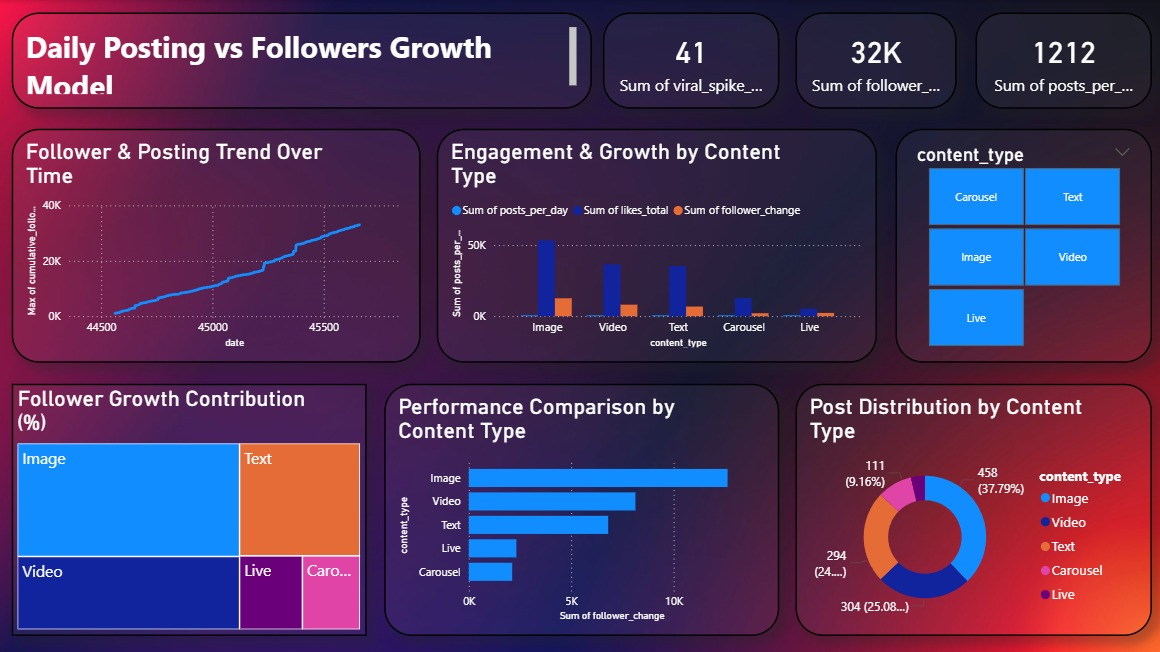

This screenshot's page, from the dashboard's own definition file:
{"tool":"powerbi","page":{"name":"Page 1","canvas":[1280,720],"ordinal":0},"visuals":[{"type":"card","fields":{"Values":["Sum(Sheet1.posts_per_day)"]},"box":[1073.1,13.7,193.5,105.7],"z":0},{"type":"card","fields":{"Values":["Sum(Sheet1.follower_change)"]},"box":[875.5,13.7,177,105.7],"z":1000},{"type":"card","fields":{"Values":["Sum(Sheet1.viral_spike_flag)"]},"box":[664.2,13.7,193.5,105.7],"z":2000},{"type":"textbox","box":[15.1,13.7,636.7,105.7],"z":3000},{"type":"lineChart","title":"Follower & Posting Trend Over Time","fields":{"Y":["Max(Sheet1.cumulative_followers)"],"Category":["Sheet1.date"]},"box":[15.1,141.3,448.7,256.6],"z":4000},{"type":"clusteredBarChart","title":"Performance Comparison by Content Type","fields":{"Y":["Sum(Sheet1.follower_change)"],"Category":["Sheet1.content_type"]},"box":[424,421.3,433.6,277.2],"z":5000},{"type":"donutChart","title":"Post Distribution by Content Type","fields":{"Category":["Sheet1.content_type"],"Y":["Sum(Sheet1.posts_per_day)"]},"box":[875.5,421.3,391.1,277.2],"z":6000},{"type":"treemap","title":"Follower Growth Contribution (%)","fields":{"Group":["Sheet1.content_type"],"Values":["Sum(Sheet1.follower_change)"]},"box":[15.1,421.3,389.7,277.2],"z":7000},{"type":"clusteredColumnChart","title":"Engagement & Growth by Content Type","fields":{"Category":["Sheet1.content_type"],"Y":["Sum(Sheet1.posts_per_day)","Sum(Sheet1.likes_total)","Sum(Sheet1.follower_change)"]},"box":[481.6,141.3,483,256.6],"z":8000},{"type":"slicer","fields":{"Values":["Sheet1.content_type"]},"box":[985.3,141.3,281.3,256.6],"z":9000}]}

Visuals, with their boxes in screenshot pixels (x1, y1, x2, y2), scaled from the page's 1280x720 canvas onto the 1160x652 screenshot:
card - Sum(Sheet1.posts_per_day): locate(972, 12, 1148, 108)
card - Sum(Sheet1.follower_change): locate(793, 12, 954, 108)
card - Sum(Sheet1.viral_spike_flag): locate(602, 12, 777, 108)
textbox: locate(14, 12, 591, 108)
"Follower & Posting Trend Over Time" lineChart: locate(14, 128, 420, 360)
"Performance Comparison by Content Type" clusteredBarChart: locate(384, 382, 777, 633)
"Post Distribution by Content Type" donutChart: locate(793, 382, 1148, 633)
"Follower Growth Contribution (%)" treemap: locate(14, 382, 367, 633)
"Engagement & Growth by Content Type" clusteredColumnChart: locate(436, 128, 874, 360)
slicer - Sheet1.content_type: locate(893, 128, 1148, 360)
